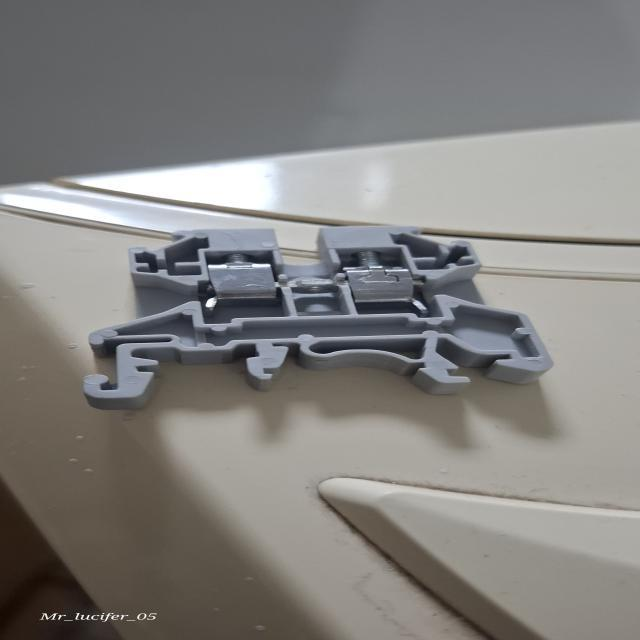Pass: (80, 225, 553, 402)
